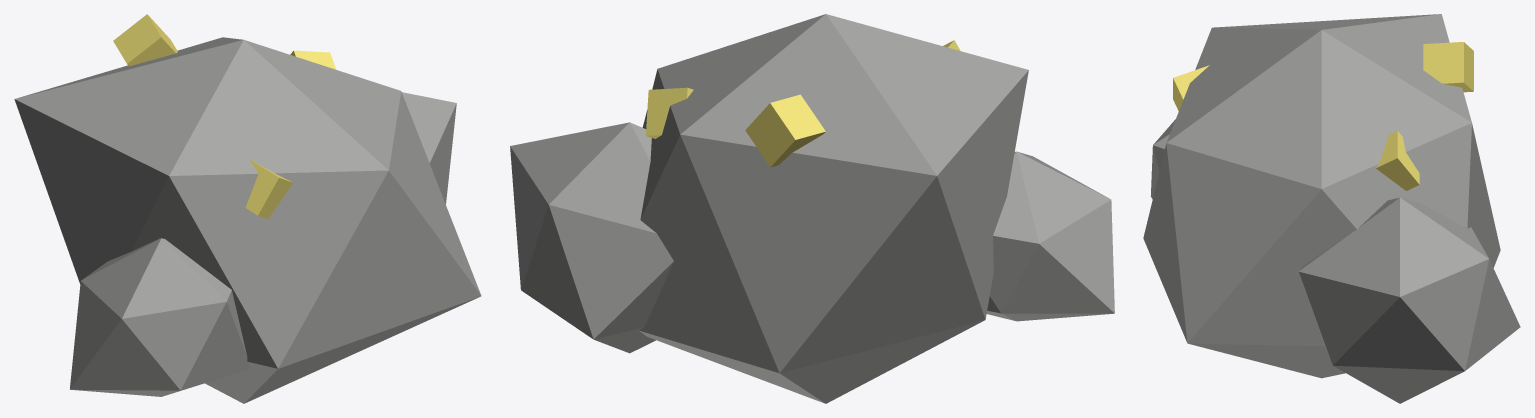
File: sulfur_node.glb
The picture shows the model from 3 angles, left to right: view 1: azimuth 30°, elevation 25°; view 2: azimuth 150°, elevation 25°; view 3: azimuth 270°, elevation 25°; orthographic projection. The views are drawn at different scales.
Visible parts, largest first — view 1: sulfur_node; view 2: sulfur_node; view 3: sulfur_node.
Part boxes in pixels (bbox=[...]): sulfur_node: bbox=[14, 14, 481, 403]; sulfur_node: bbox=[510, 14, 1114, 403]; sulfur_node: bbox=[1143, 14, 1520, 403].
Bounding box in the file's own units: 2.01 × 1.47 × 1.44.
